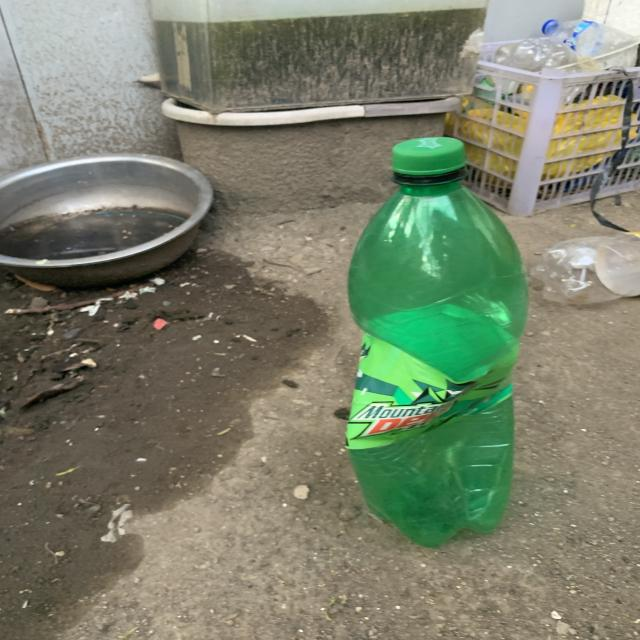Bottle: (346, 137, 528, 547)
